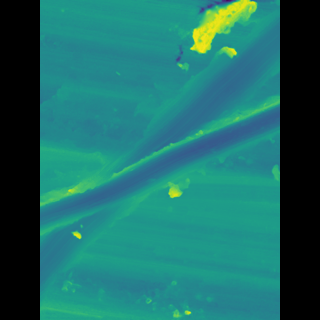Loch: (69, 5, 249, 301), (69, 105, 249, 233)
